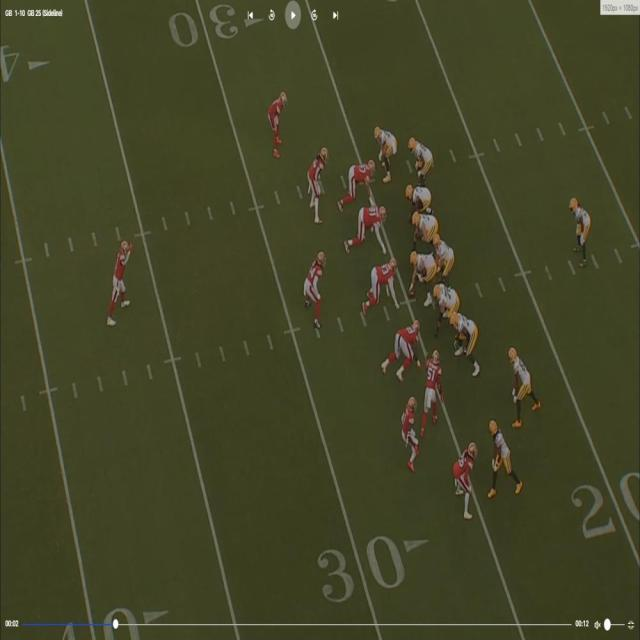center: (409, 248, 433, 305)
db: (112, 241, 134, 314), (457, 445, 477, 514), (272, 88, 288, 156), (403, 396, 419, 461)
lb: (306, 255, 324, 328), (424, 348, 441, 424), (308, 151, 325, 218)
qb: (432, 236, 454, 277)
skill: (491, 422, 518, 489), (513, 350, 538, 413), (409, 135, 432, 177), (572, 199, 588, 252), (376, 127, 394, 173)
